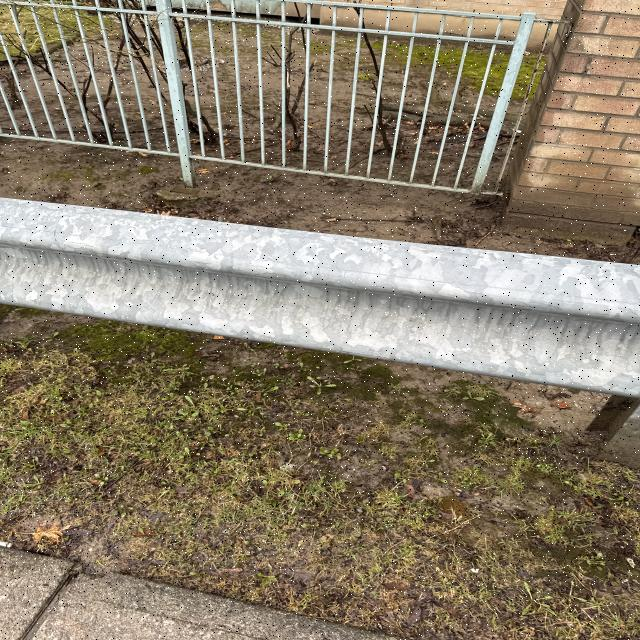Guard rail: (0, 208, 615, 377)
